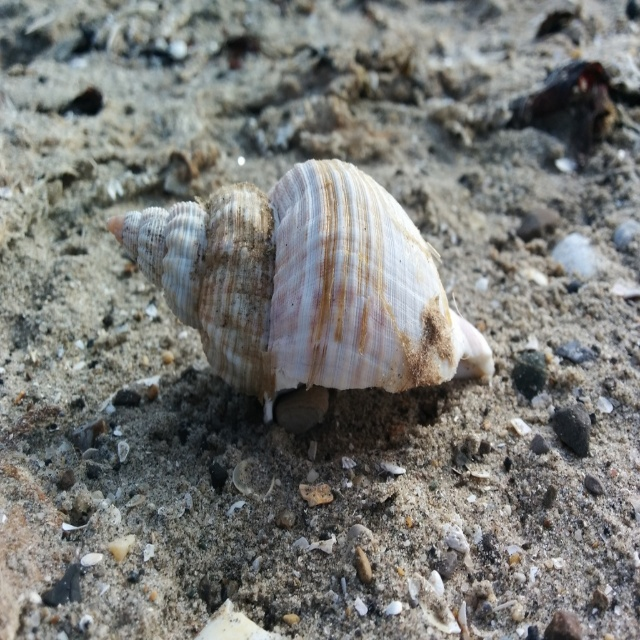Snail: (106, 159, 495, 434)
